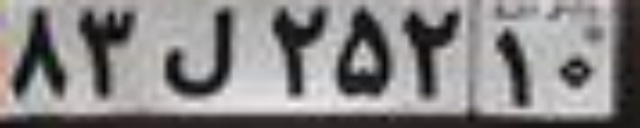0: (550, 55, 595, 88)
1: (487, 26, 529, 106)
2: (399, 9, 459, 98), (267, 3, 323, 95)
3: (75, 9, 135, 97)
5: (330, 6, 394, 95)
8: (6, 8, 66, 98)
lam: (158, 6, 236, 96)
